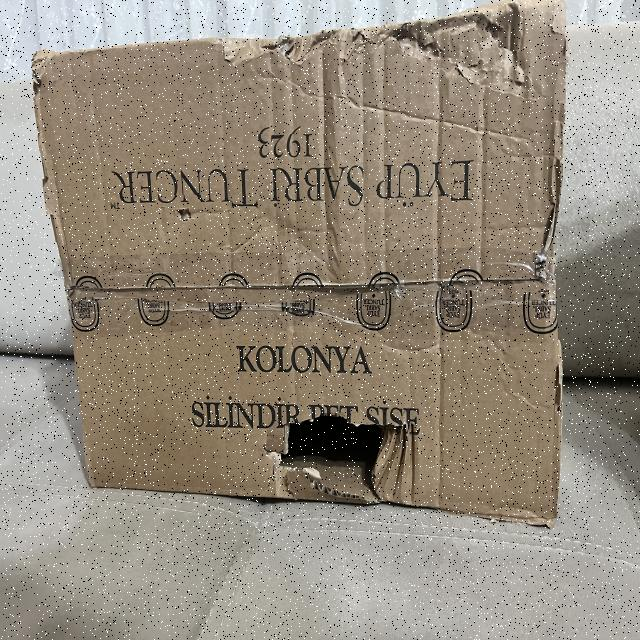damaged: (27, 0, 567, 527), (221, 2, 532, 134), (255, 394, 421, 514), (542, 140, 566, 266), (21, 44, 56, 98), (164, 195, 201, 234)
